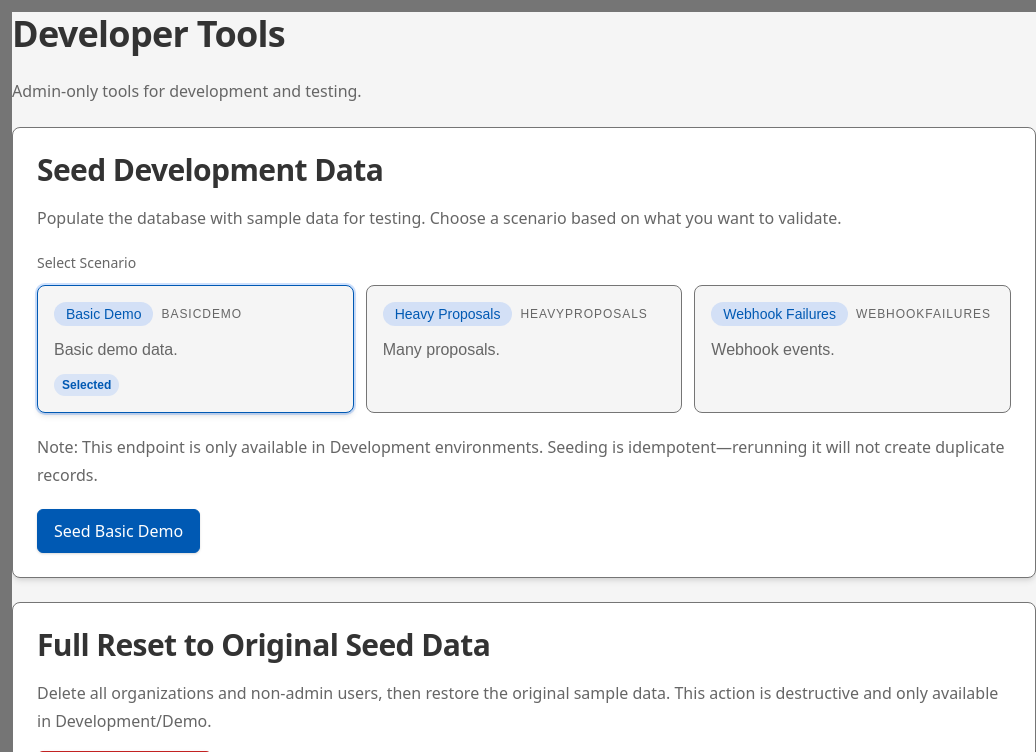
Test: AdminDevToolsPage › disables button while seeding is in progress
Click the button "Seed Basic Demo". click: point(119, 531)
box: [37,509,200,553]
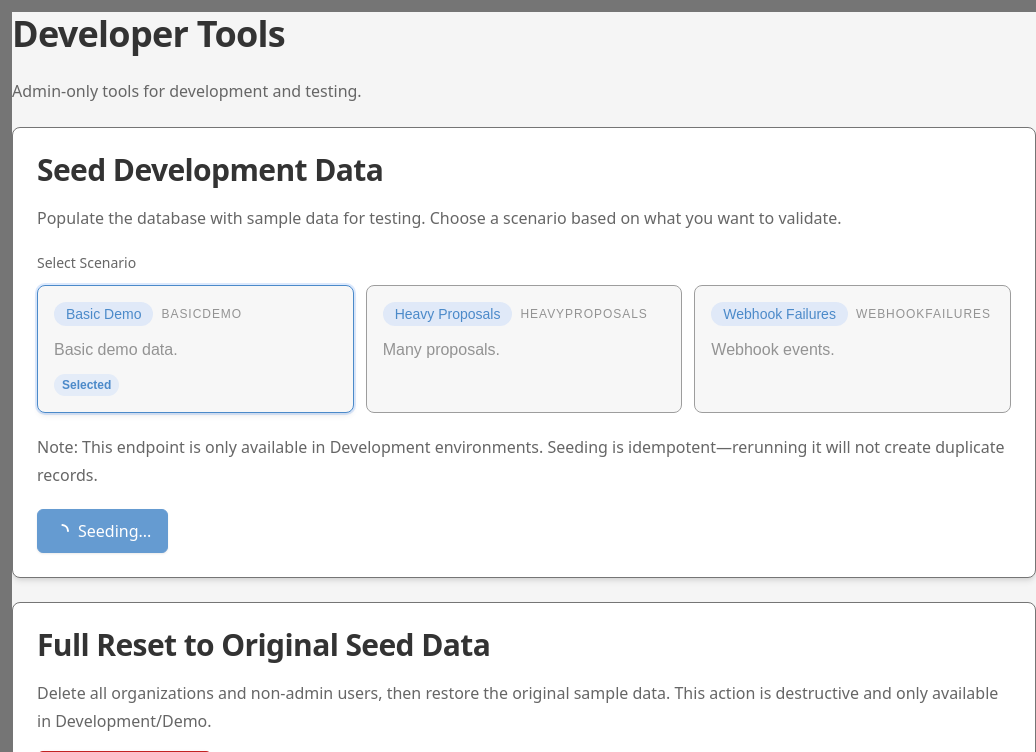
Now the text "Seeding..." is shown, box [78,522,151,541]
Now the button "Seeding..." is disabled, box [37,509,168,553]
